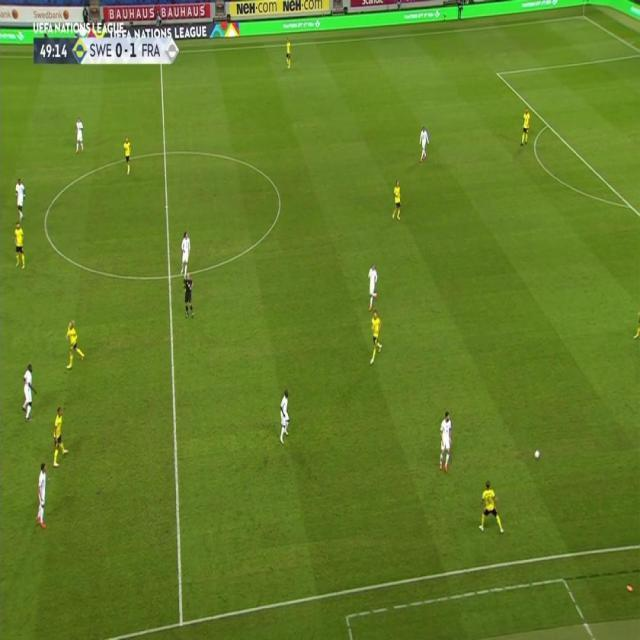ball: (534, 448, 541, 461)
player: (477, 477, 505, 535), (50, 404, 70, 469), (64, 319, 87, 370), (20, 363, 39, 422), (33, 461, 49, 530), (437, 409, 453, 474), (368, 310, 385, 367), (278, 389, 292, 444), (13, 221, 27, 272), (366, 261, 380, 311), (179, 229, 192, 278), (14, 176, 27, 223), (391, 179, 403, 222), (520, 108, 532, 147), (74, 116, 86, 155), (418, 125, 430, 163), (123, 136, 133, 177), (632, 307, 640, 342), (285, 36, 293, 69), (457, 0, 464, 20)
referee: (183, 273, 195, 321)
